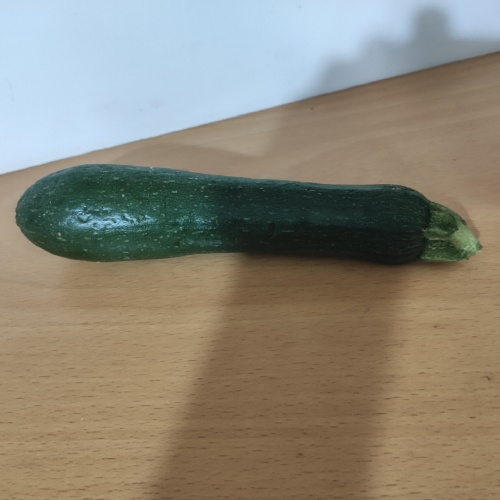zucchine: (14, 160, 481, 287)
